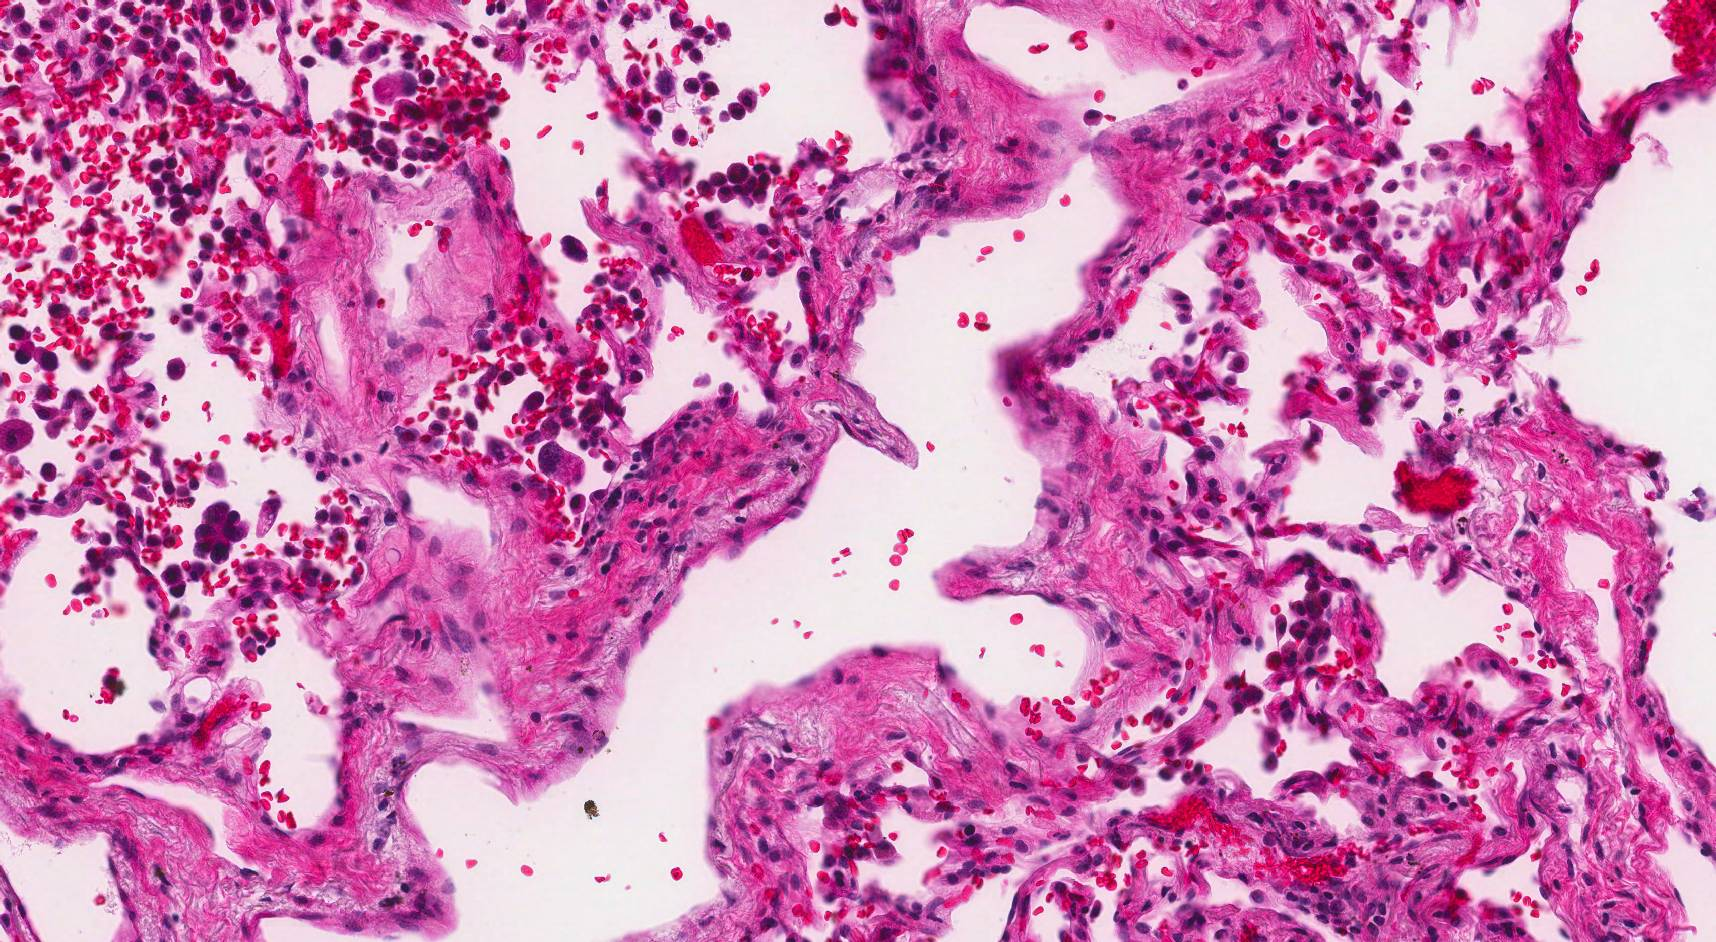stas: (193, 502, 247, 562)
